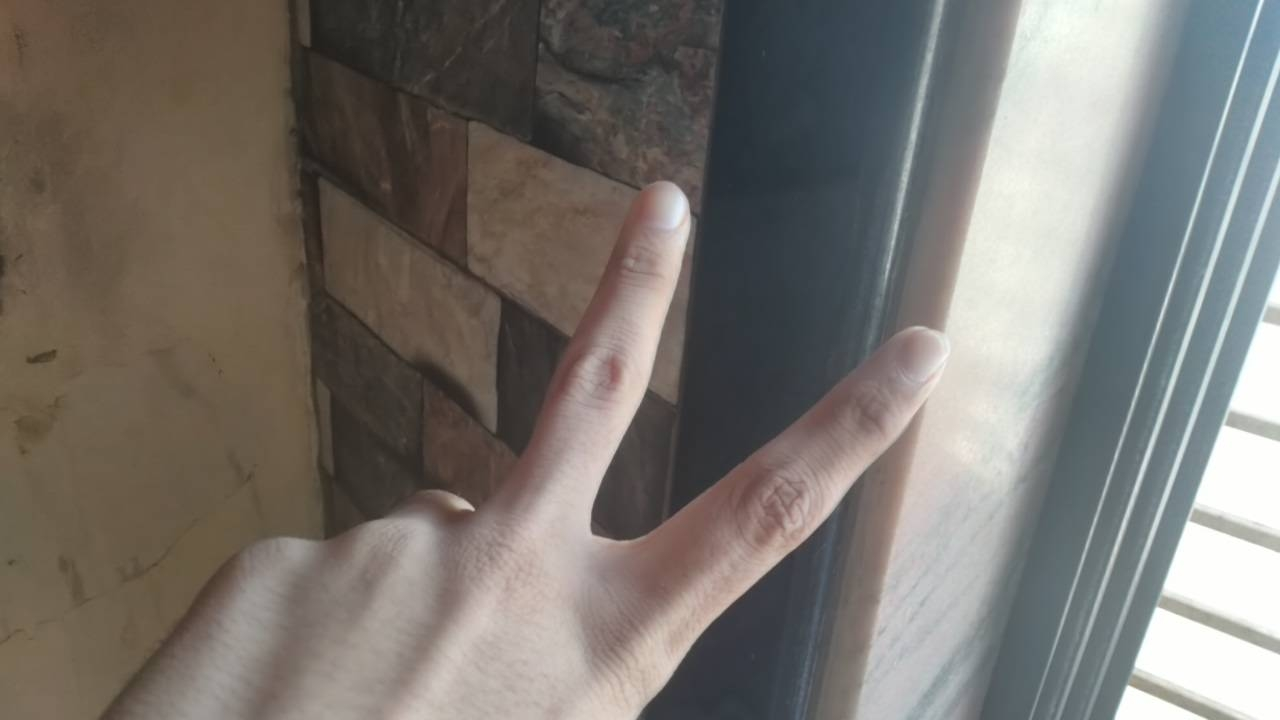fingertip: (880, 317, 954, 393), (622, 174, 694, 242)
